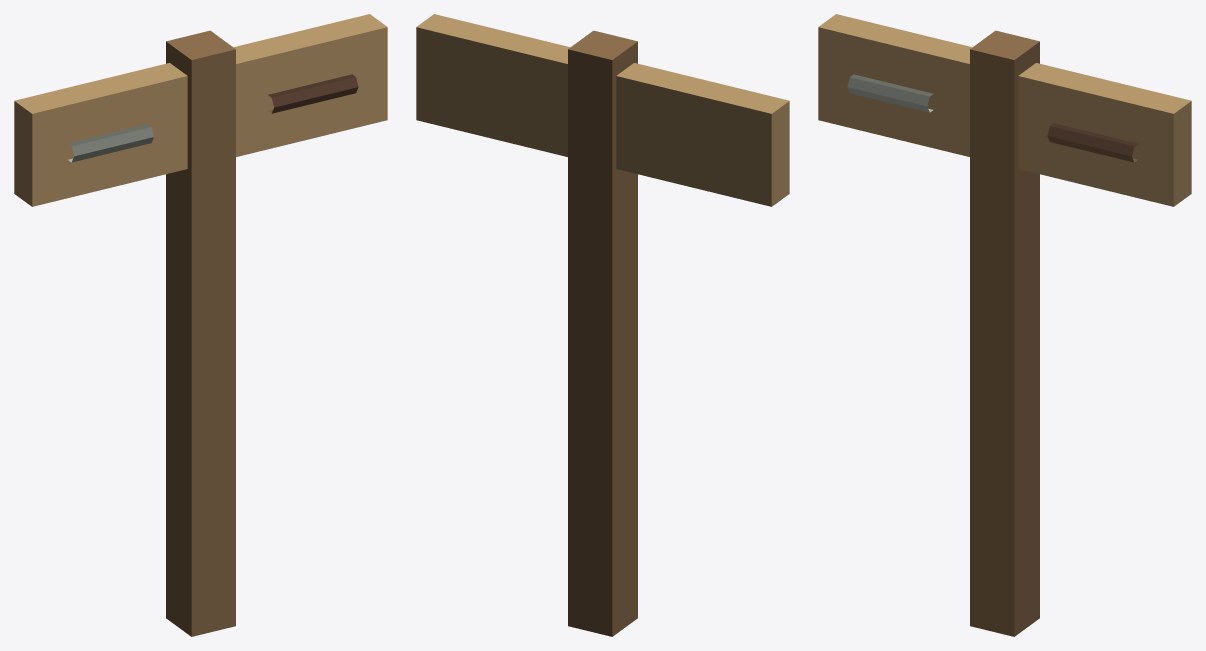
3 renders of one model, left to right at view 1: azimuth 30°, elevation 25°; view 2: azimuth 150°, elevation 25°; view 3: azimuth 330°, elevation 25°, orthographic.
Visible parts, largest first — view 1: 358a48278ddc334e029cef302ed70b4a8363a4532682ba0fa57d1a0dda41; view 2: 358a48278ddc334e029cef302ed70b4a8363a4532682ba0fa57d1a0dda41; view 3: 358a48278ddc334e029cef302ed70b4a8363a4532682ba0fa57d1a0dda41.
Part boxes in pixels (box(x1,y1,x2,y2)): 358a48278ddc334e029cef302ed70b4a8363a4532682ba0fa57d1a0dda41: box(14, 14, 387, 636); 358a48278ddc334e029cef302ed70b4a8363a4532682ba0fa57d1a0dda41: box(416, 14, 789, 636); 358a48278ddc334e029cef302ed70b4a8363a4532682ba0fa57d1a0dda41: box(818, 14, 1191, 636).
Bounding box in the file's own units: 0.8 × 1.24 × 0.11.
1 material, 1 textured.
